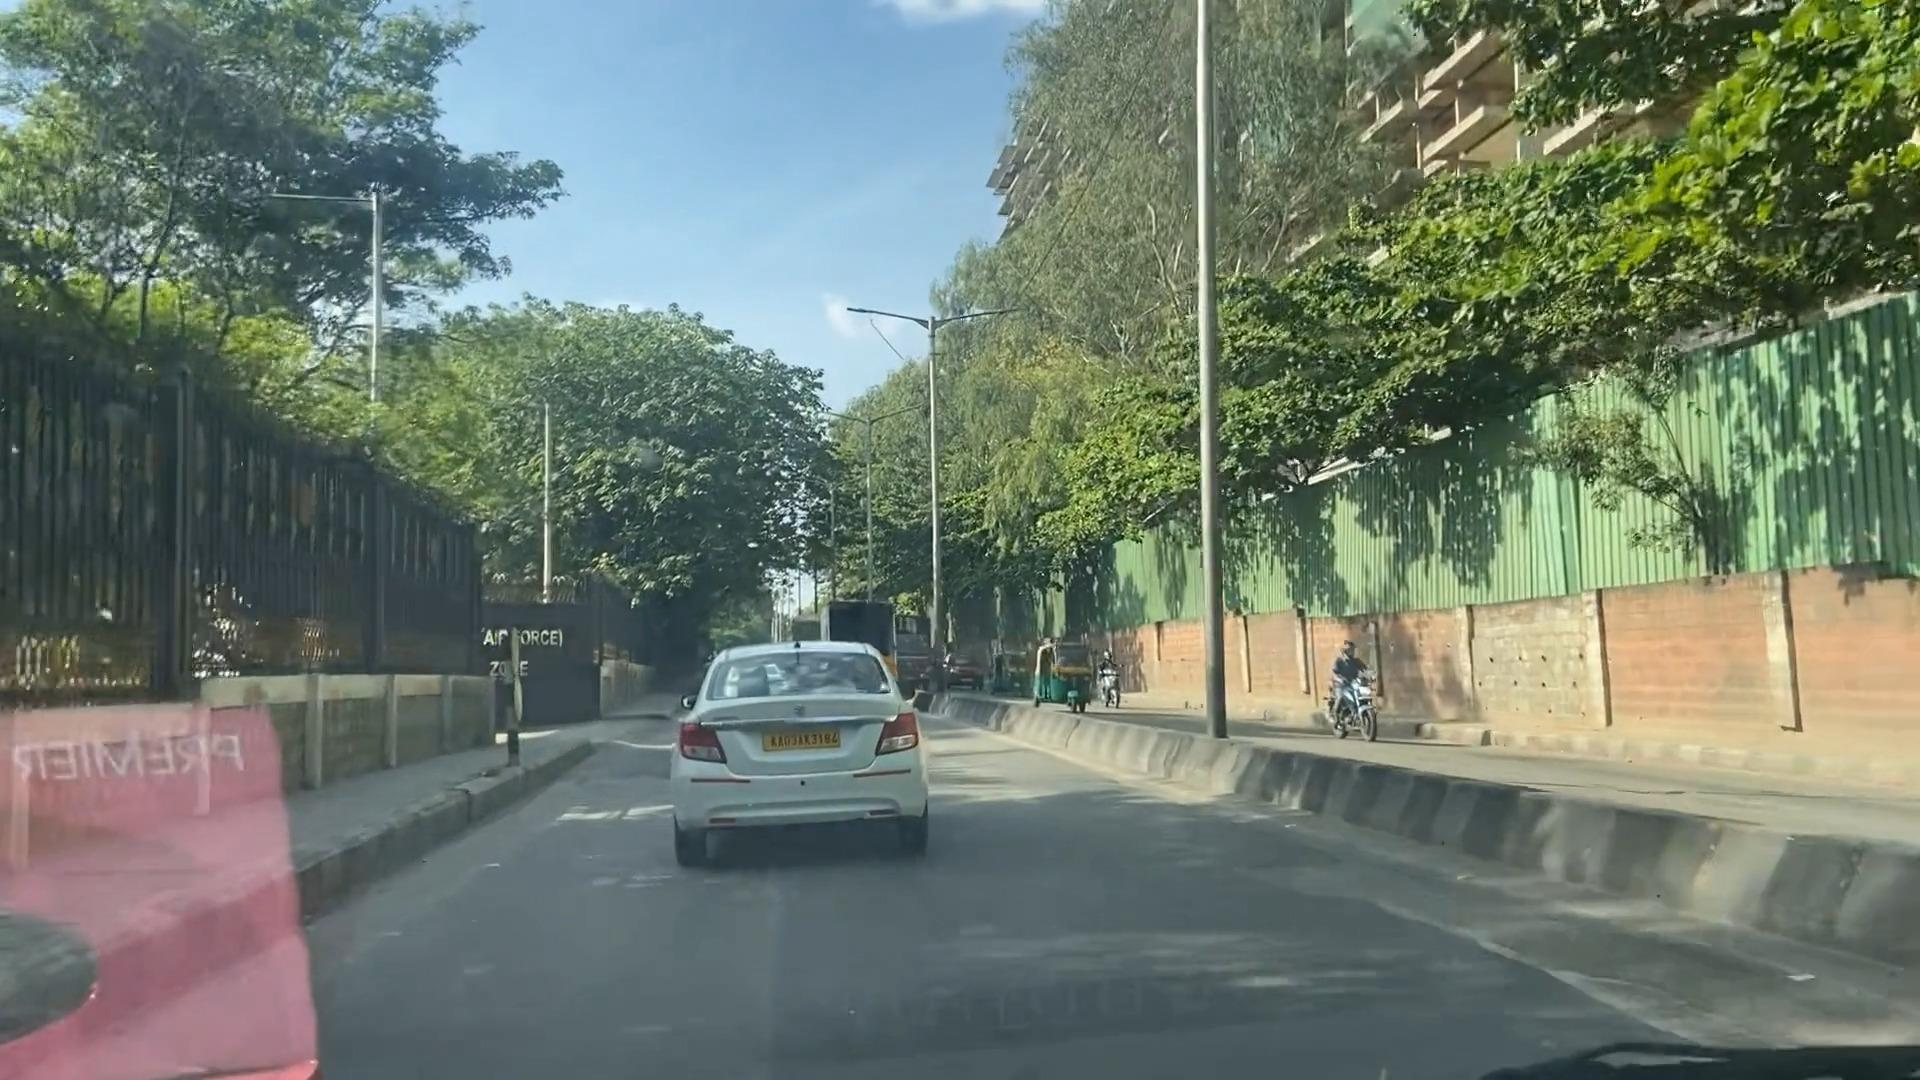RoadDamages: (1333, 868, 1785, 1062)
